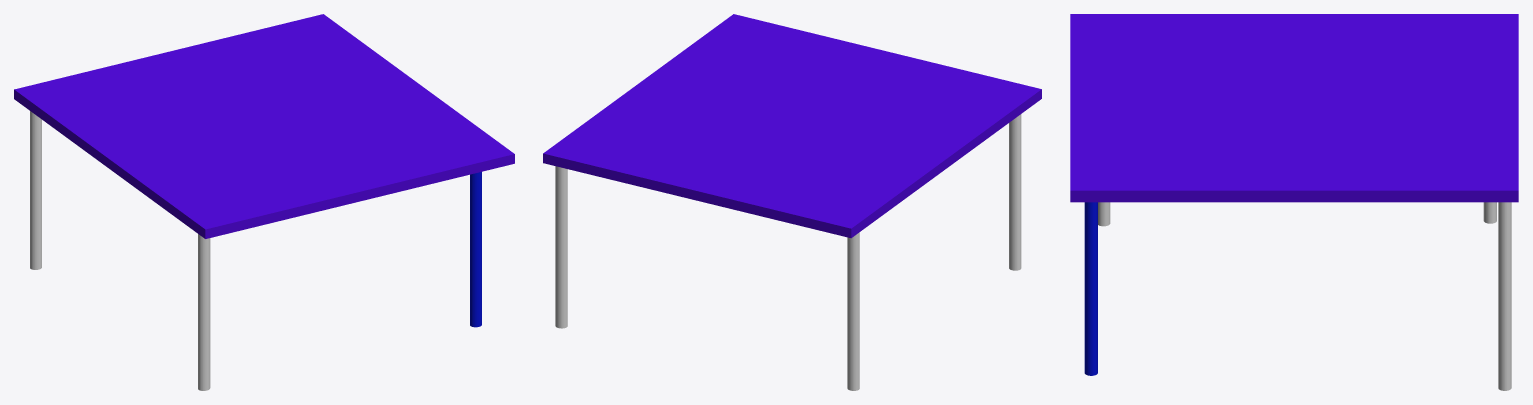
3 views of the same model, side by side, from view 1: azimuth 30°, elevation 25°; view 2: azimuth 150°, elevation 25°; view 3: azimuth 270°, elevation 25° (orthographic). The views are drawn at different scales.
Visible parts, largest first — view 1: Cube, Cylinder.002, Cylinder.001, Cylinder.003; view 2: Cube, Cylinder, Cylinder.001, Cylinder.002; view 3: Cube, Cylinder, Cylinder.003.
Boxes of the visible parts, left/top/right/bottom form: Cube: left=14, top=14, right=514, bottom=238; Cylinder.002: left=198, top=234, right=210, bottom=390; Cylinder.001: left=30, top=111, right=41, bottom=269; Cylinder.003: left=470, top=172, right=481, bottom=327; Cube: left=543, top=14, right=1041, bottom=238; Cylinder: left=555, top=166, right=567, bottom=328; Cylinder.001: left=847, top=232, right=859, bottom=390; Cylinder.002: left=1009, top=114, right=1021, bottom=270; Cube: left=1070, top=14, right=1518, bottom=202; Cylinder: left=1498, top=202, right=1511, bottom=390; Cylinder.003: left=1084, top=202, right=1097, bottom=375.
Size of the model in its own units: 8.12 by 4.38 by 8.7.
